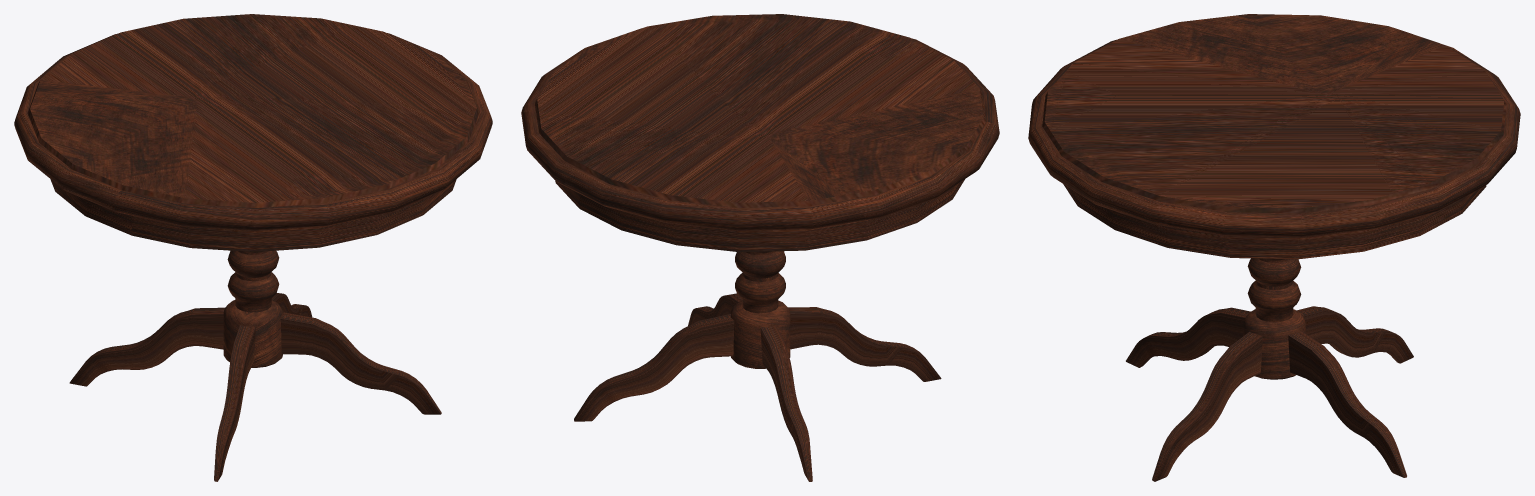
Rendered from TableSmall.fbx.
3 renders of one model, left to right at view 1: azimuth 30°, elevation 25°; view 2: azimuth 150°, elevation 25°; view 3: azimuth 270°, elevation 25°, orthographic. The views are drawn at different scales.
Parts seen in each view (by area): view 1: Circle.001_cell.049, Circle.001_cell.051, Circle.001_cell.048, Circle.001_cell.052, Circle.001_cell.047, Circle.001_cell.043, Circle.001_cell.056, Circle.001_cell.054, Circle.001_cell.055, Circle.001_cell.044, Circle.001_cell.046, Circle.001_cell.057; view 2: Circle.001_cell.049, Circle.001_cell.047, Circle.001_cell.051, Circle.001_cell.048, Circle.001_cell.043, Circle.001_cell.053, Circle.001_cell.055, Circle.001_cell.054, Circle.001_cell.044, Circle.001_cell.052, Circle.001_cell.046, Circle.001_cell.057 (+1 smaller); view 3: Circle.001_cell.048, Circle.001_cell.051, Circle.001_cell.049, Circle.001_cell.047, Circle.001_cell.043, Circle.001_cell.053, Circle.001_cell.056, Circle.001_cell.055, Circle.001_cell.052, Circle.001_cell.054, Circle.001_cell.044, Circle.001_cell.046 (+1 smaller).
Part boxes in pixels (<box>): Circle.001_cell.049: <box>14,95,298,249</box>; Circle.001_cell.051: <box>198,100,492,224</box>; Circle.001_cell.048: <box>188,26,489,113</box>; Circle.001_cell.052: <box>210,171,426,251</box>; Circle.001_cell.047: <box>19,16,218,106</box>; Circle.001_cell.043: <box>196,14,359,91</box>; Circle.001_cell.056: <box>280,312,441,414</box>; Circle.001_cell.054: <box>69,307,224,386</box>; Circle.001_cell.055: <box>214,325,255,481</box>; Circle.001_cell.044: <box>223,300,283,367</box>; Circle.001_cell.046: <box>227,272,279,310</box>; Circle.001_cell.057: <box>227,250,279,277</box>; Circle.001_cell.049: <box>769,54,999,237</box>; Circle.001_cell.047: <box>564,137,874,252</box>; Circle.001_cell.051: <box>648,14,867,132</box>; Circle.001_cell.048: <box>521,26,771,138</box>; Circle.001_cell.043: <box>521,110,753,205</box>; Circle.001_cell.053: <box>574,314,734,421</box>; Circle.001_cell.055: <box>788,307,941,381</box>; Circle.001_cell.054: <box>760,325,812,481</box>; Circle.001_cell.044: <box>730,300,790,368</box>; Circle.001_cell.052: <box>828,19,957,60</box>; Circle.001_cell.046: <box>735,272,785,308</box>; Circle.001_cell.057: <box>735,251,785,278</box>; Circle.001_cell.048: <box>1158,92,1392,259</box>; Circle.001_cell.051: <box>1040,94,1319,255</box>; Circle.001_cell.049: <box>1060,14,1414,95</box>; Circle.001_cell.047: <box>1333,35,1520,215</box>; Circle.001_cell.043: <box>1327,98,1497,255</box>; Circle.001_cell.053: <box>1288,330,1406,477</box>; Circle.001_cell.056: <box>1152,331,1262,481</box>; Circle.001_cell.055: <box>1126,307,1250,367</box>; Circle.001_cell.052: <box>1028,69,1116,192</box>; Circle.001_cell.054: <box>1296,306,1413,363</box>; Circle.001_cell.044: <box>1243,309,1305,379</box>; Circle.001_cell.046: <box>1247,280,1301,325</box>.
Bounding box in the file's own units: 22769 × 15646 × 22769.
